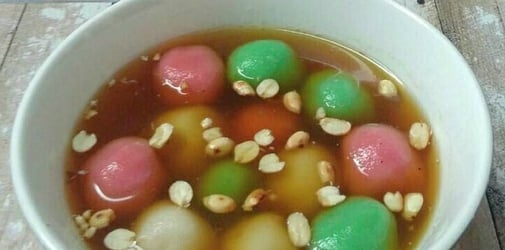ronde: (62, 26, 444, 250)
